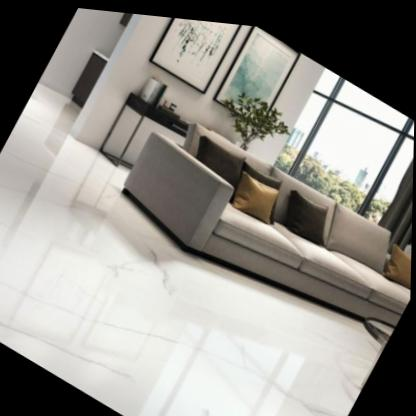Ceramic floor: (0, 122, 381, 416)
